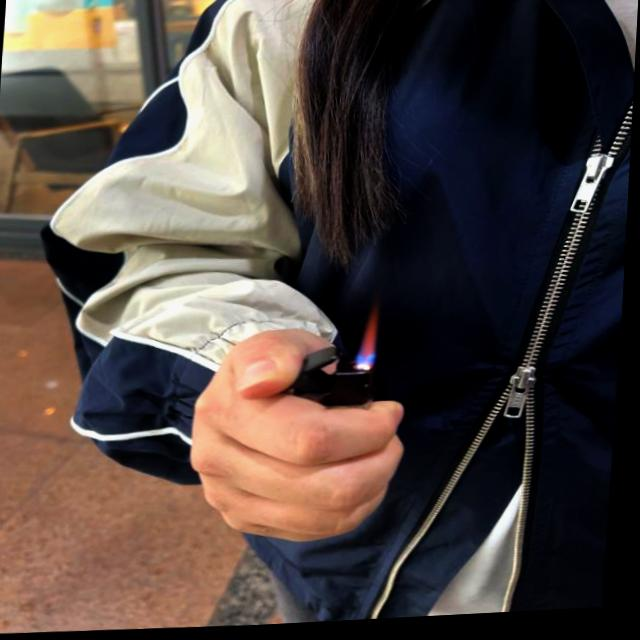Fire: (359, 300, 382, 376)
